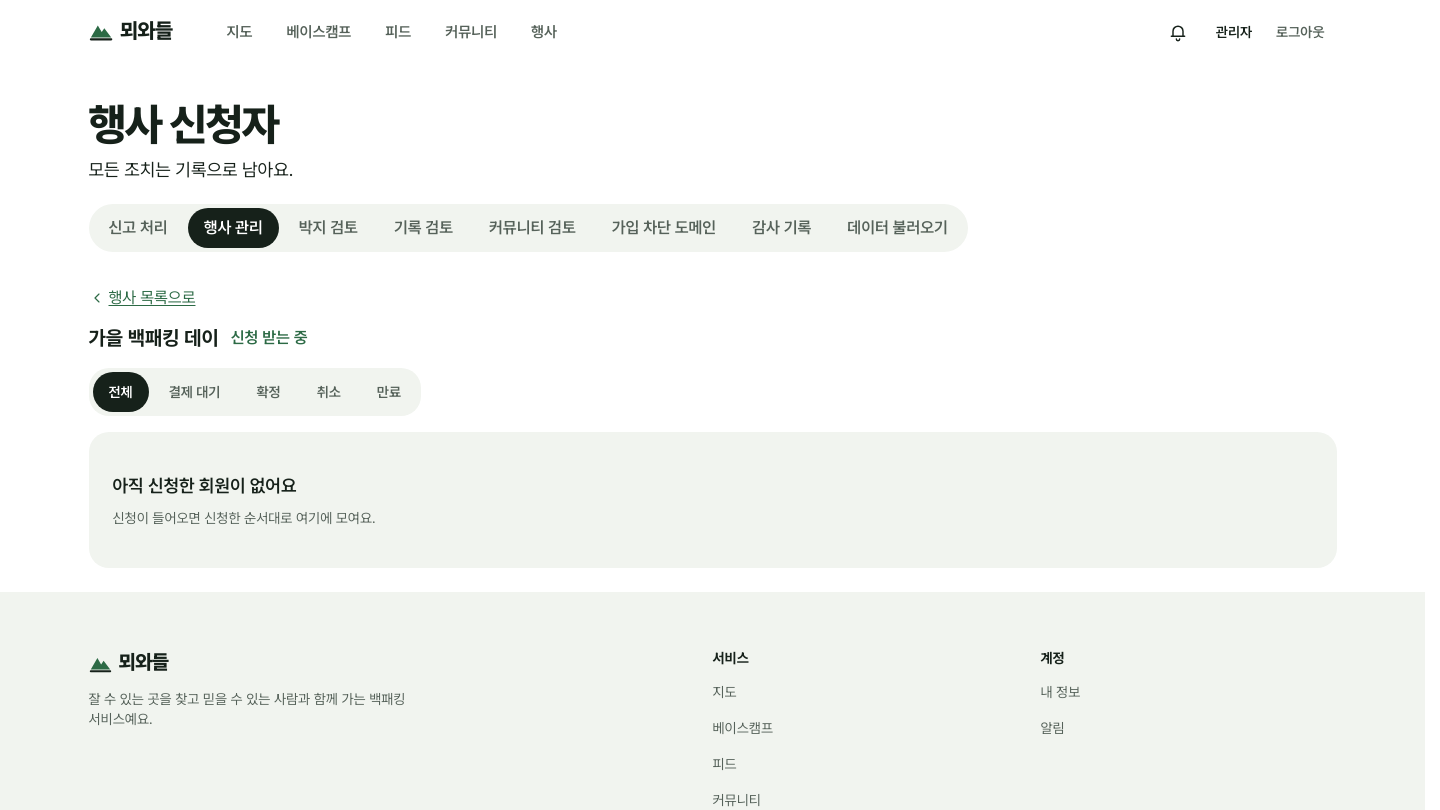
Test: 관리자 행사 신청자 목록 › 상태 구분마다 다른 빈 상태 문구를 보여 준다
Click the button "결제 대기".
click(195, 392)  # box [153,372,236,412]
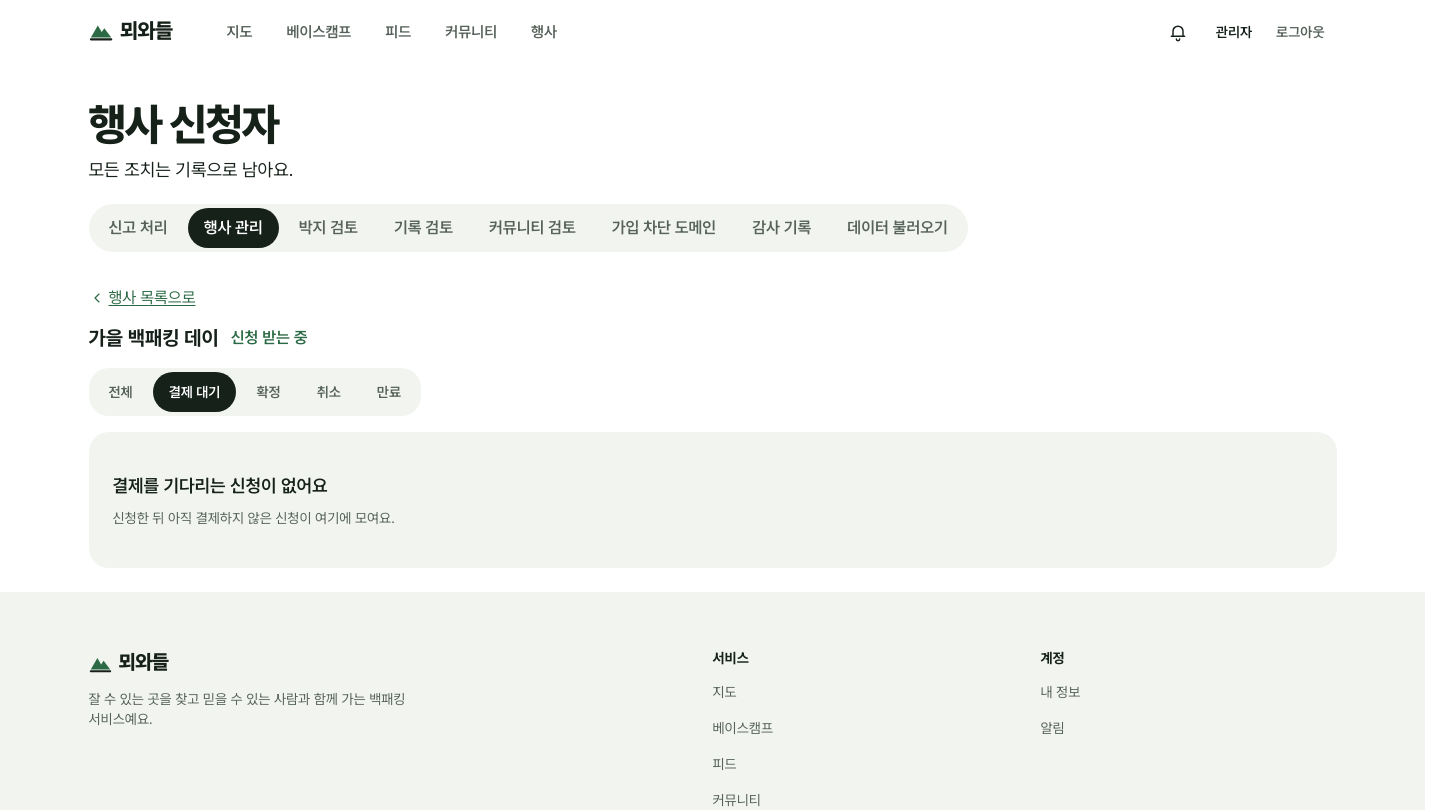
Expected: the text "결제를 기다리는 신청이 없어요" is shown, [112,472,328,500]
Click the button "확정".
click(268, 392)  # box [240,372,297,412]
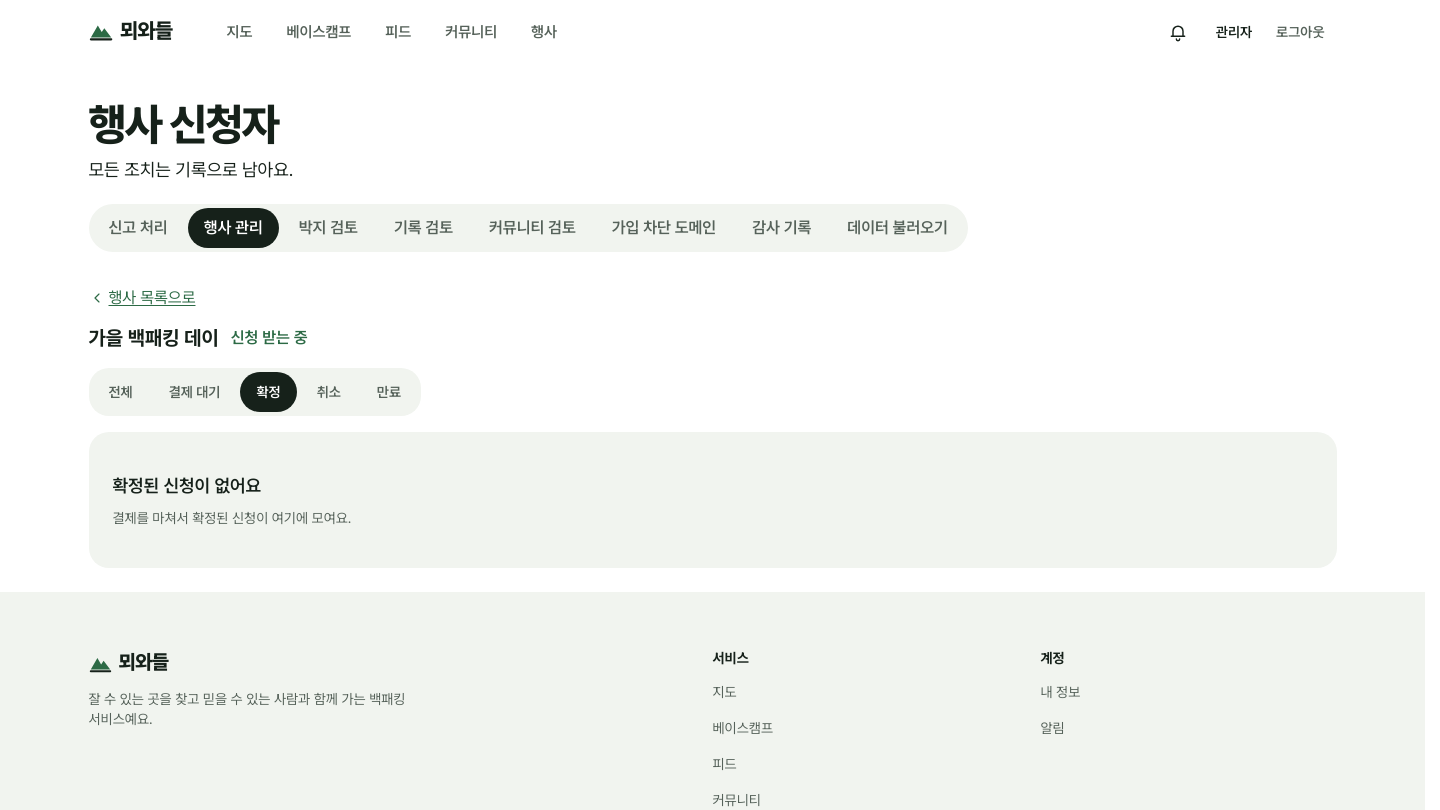
Expected: the text "확정된 신청이 없어요" is shown, [112,472,261,500]
Click the button "취소".
click(329, 392)  # box [301,372,357,412]
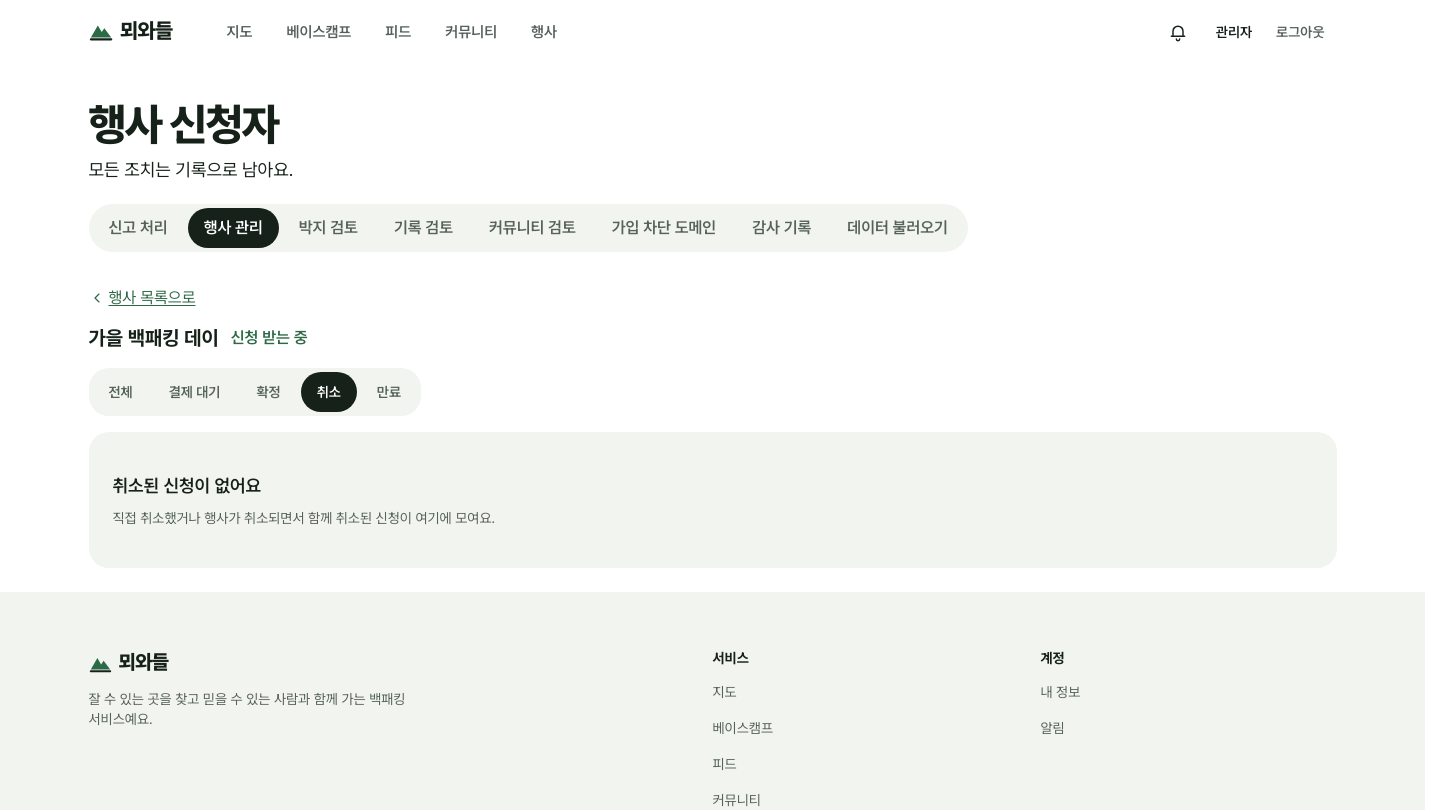
Expected: the text "취소된 신청이 없어요" is shown, [112,472,261,500]
Click the button "만료".
click(389, 392)  # box [361,372,417,412]
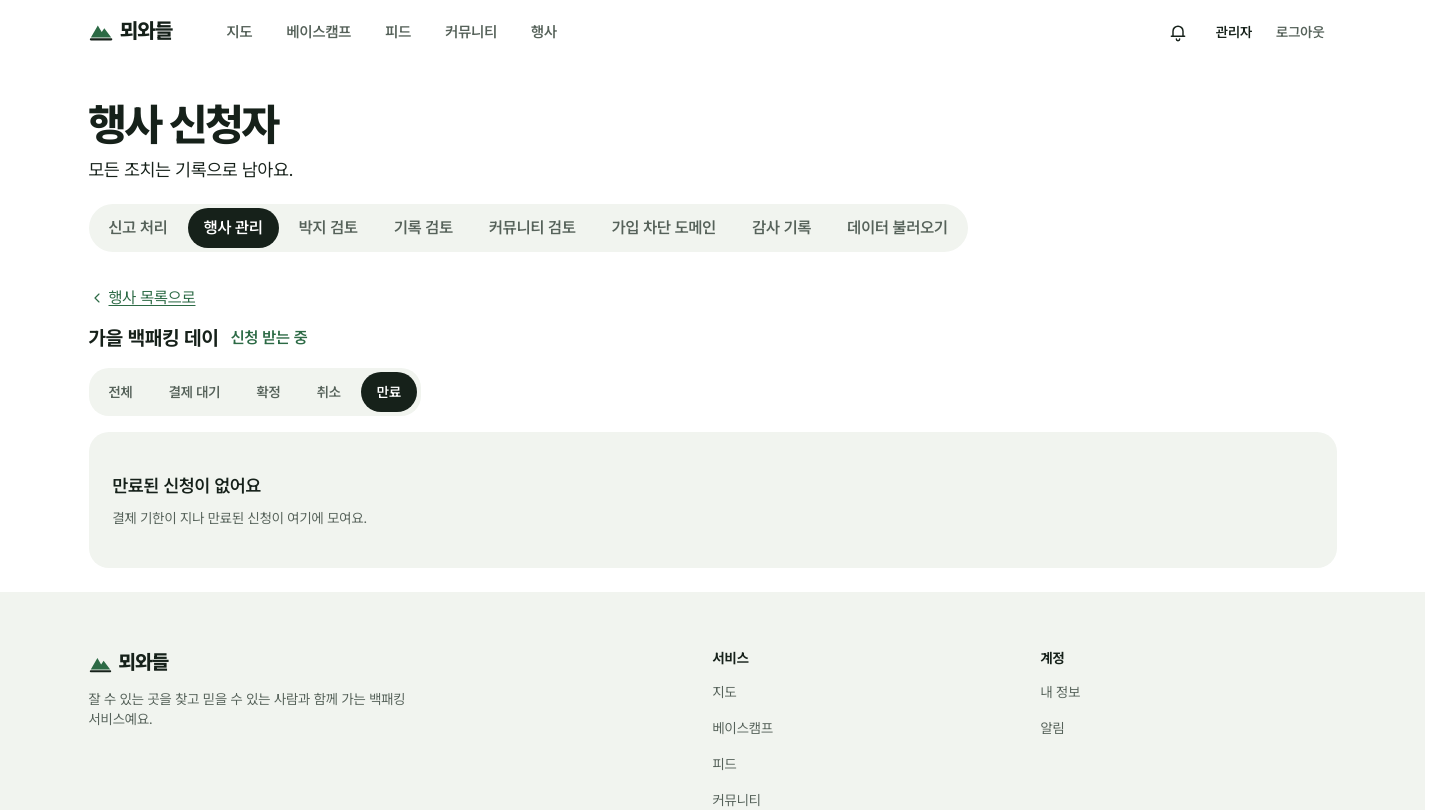
Expected: the text "만료된 신청이 없어요" is shown, [112,472,261,500]
